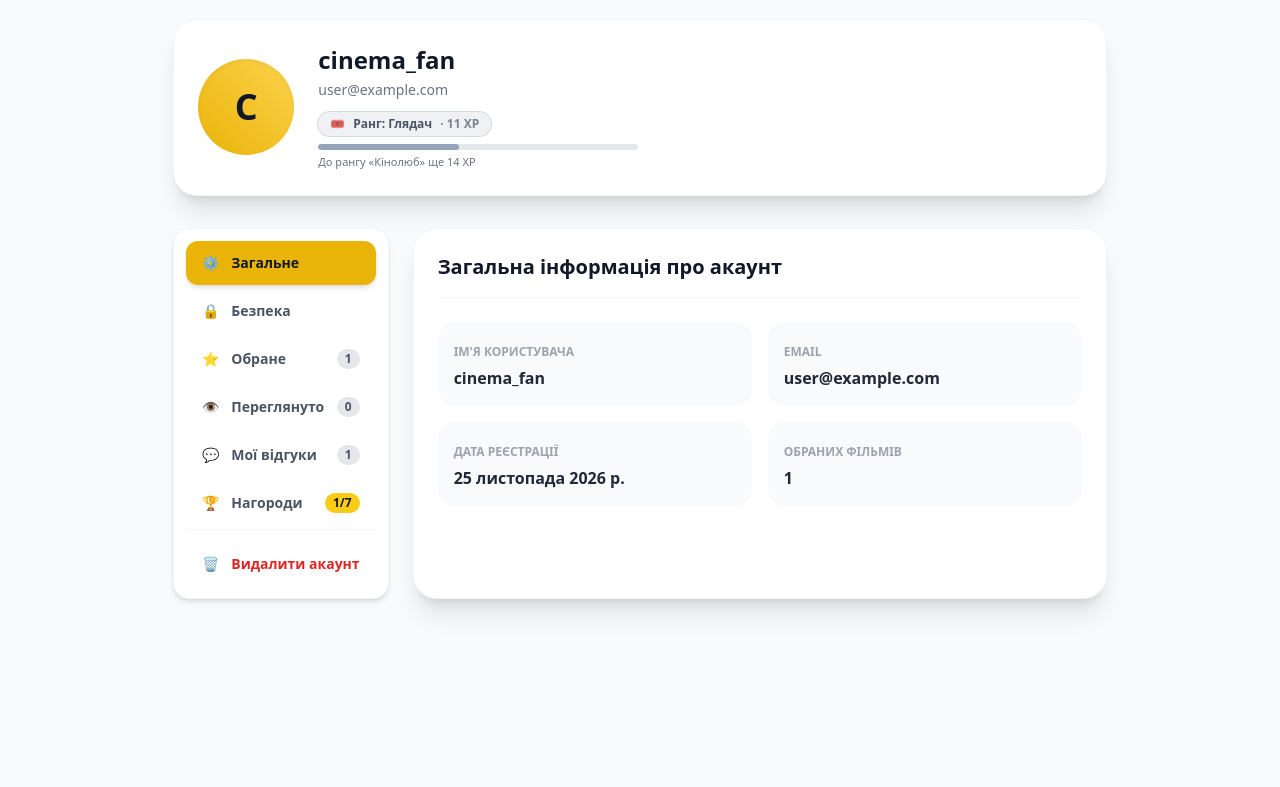
Test: UserProfile achievements › unlocks badges only from my real activity
Click the button "🏆 Нагороди 1/7": (281, 502) [186,480,376,524]
(page scrolled)
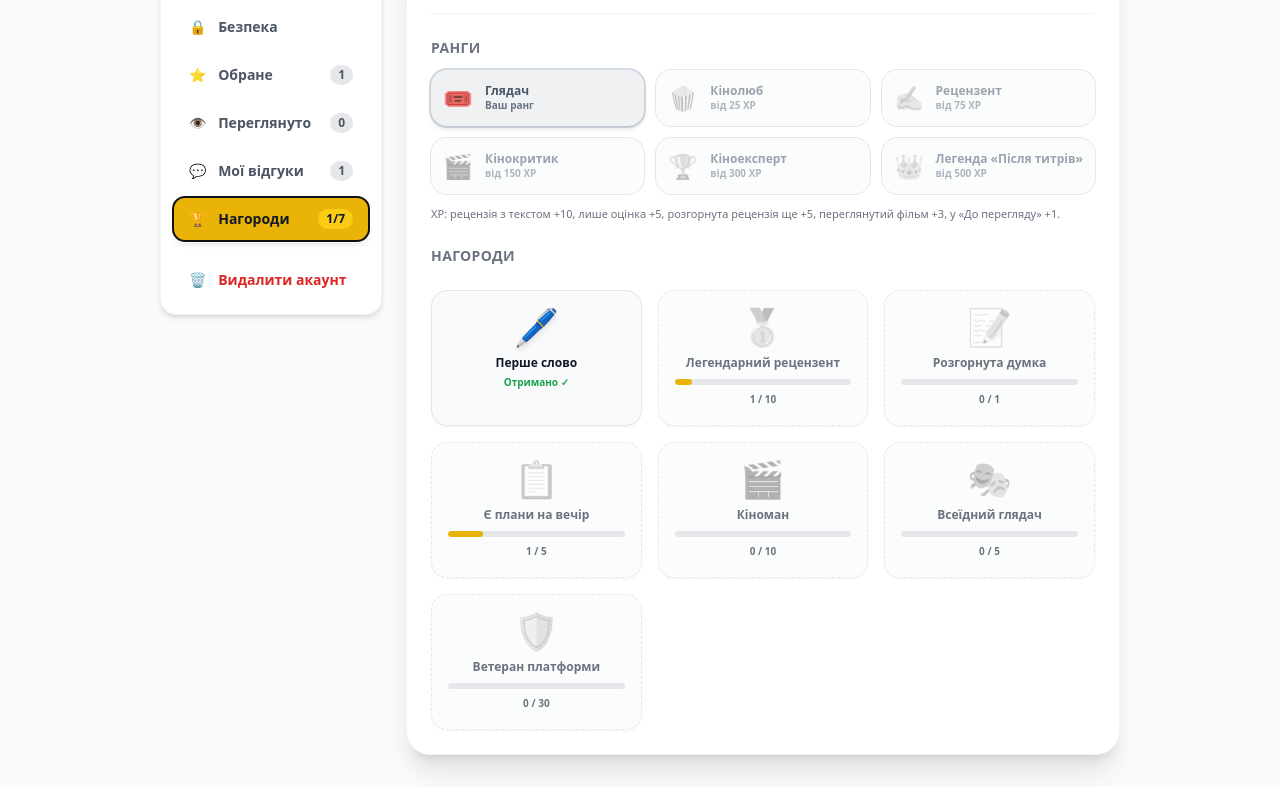
Expected: the element with test id "badge-planner" shows "1 / 5", [431,442,642,578]
